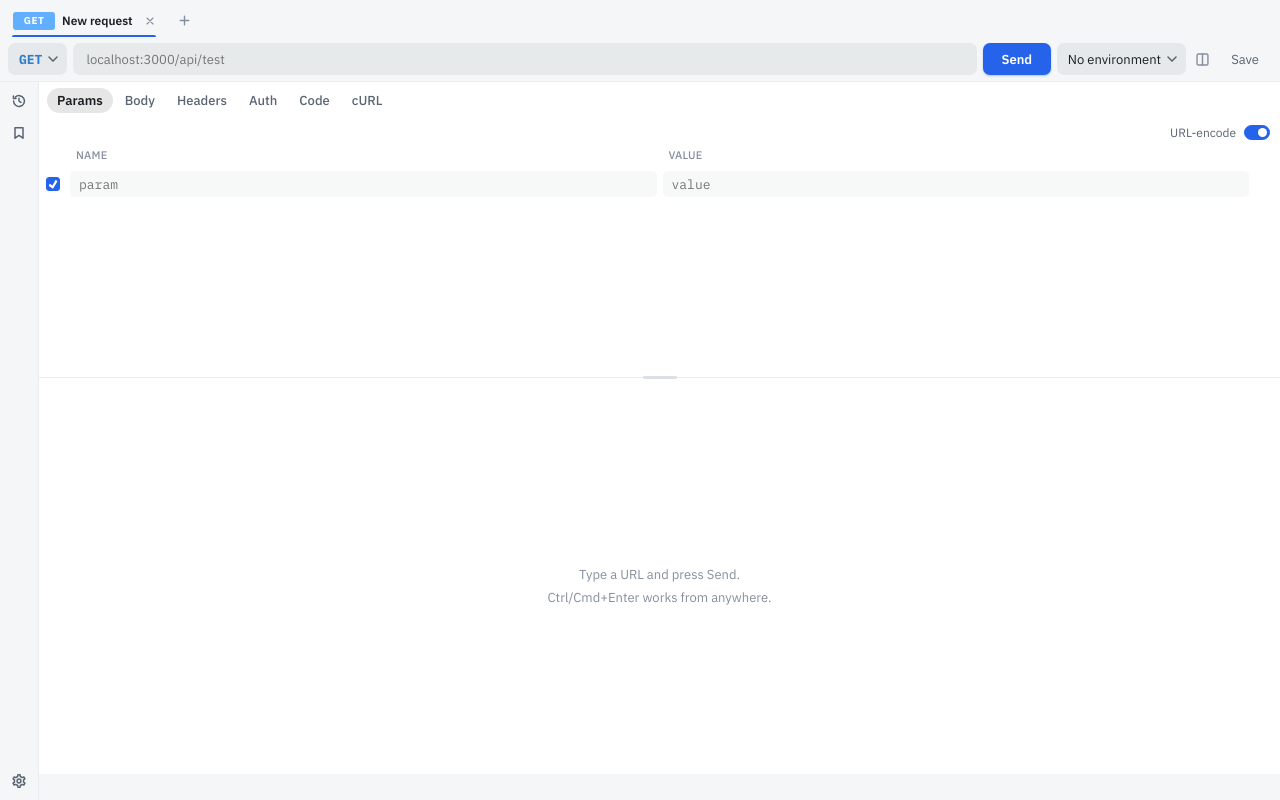
Test: sending › pretty-prints a JSON response
Type "localhost:3000" into the field named "URL" at (525, 59), box x1=73 y1=43 x2=977 y2=75
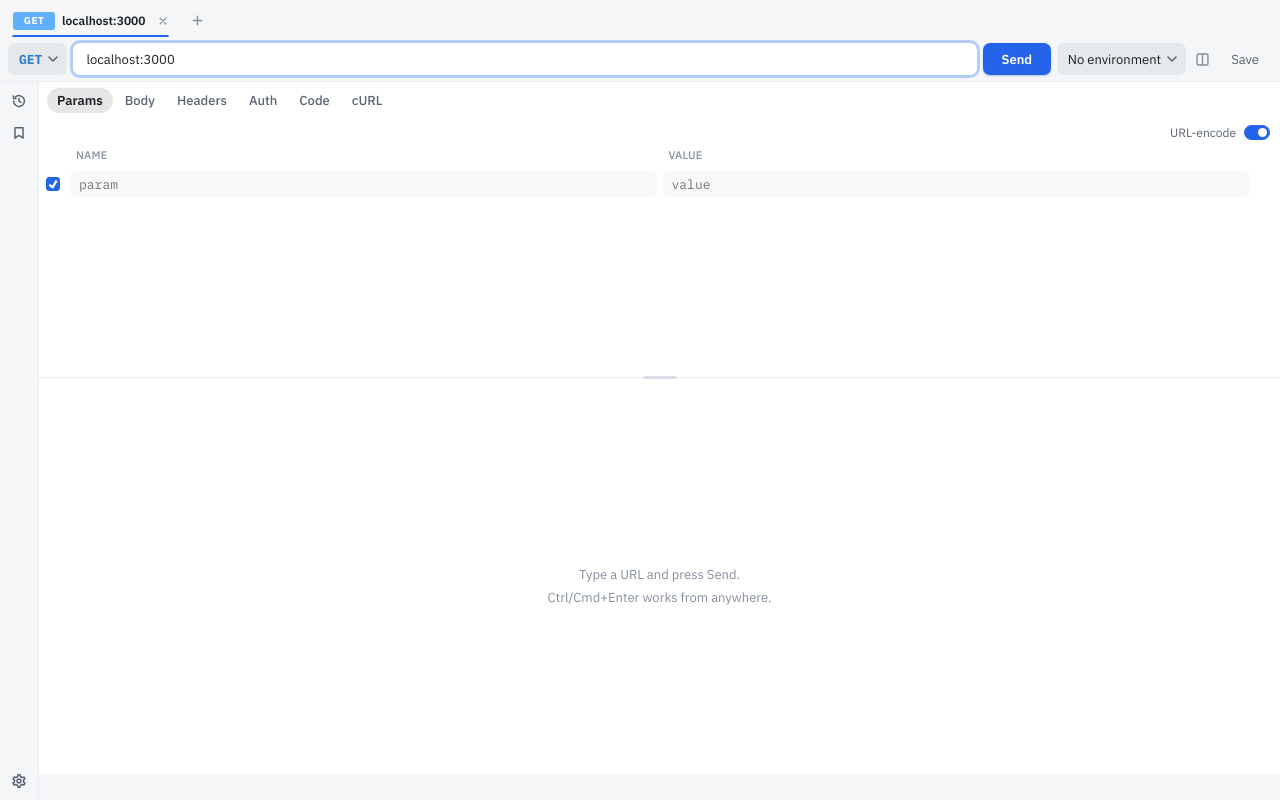
Click the button "Send" at (1017, 59), box x1=983 y1=43 x2=1051 y2=75
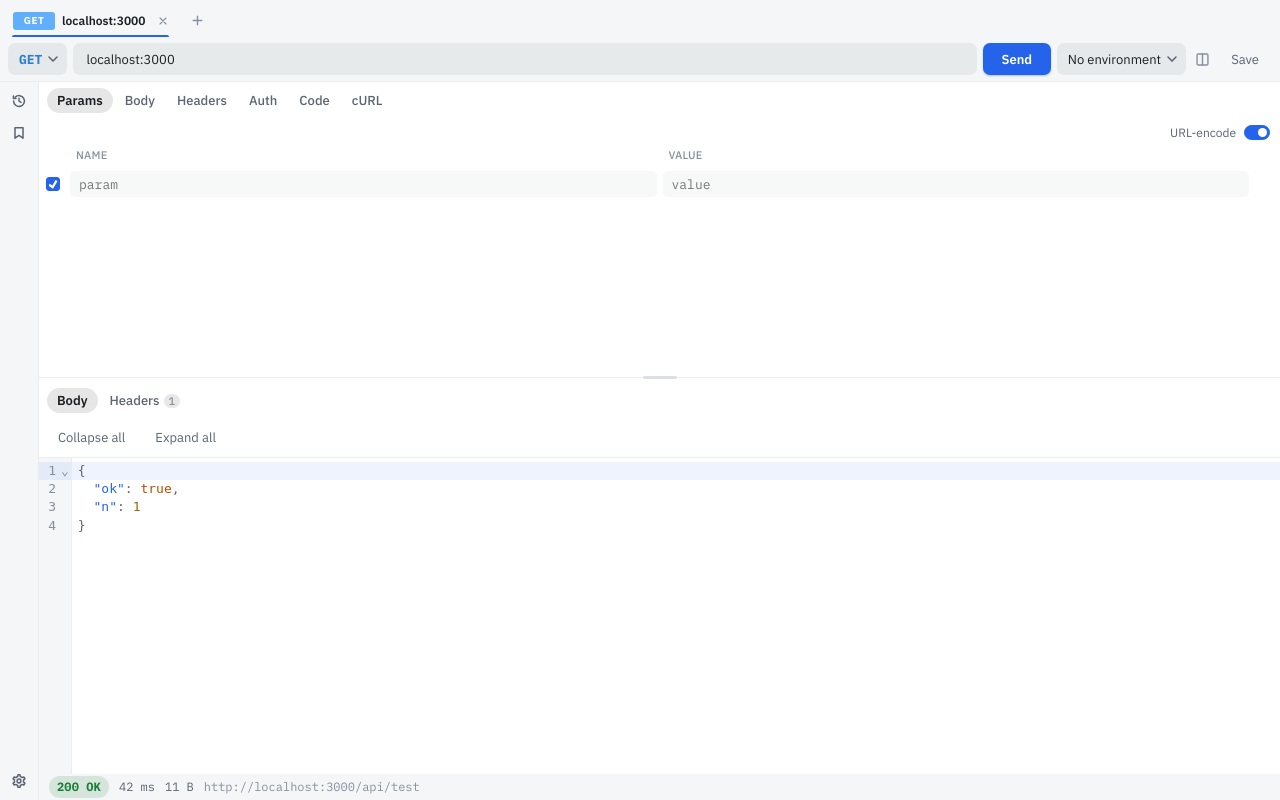
Now the text "200 OK" is shown, box x1=49 y1=776 x2=109 y2=798
Now the field named "Response body" shows "\"ok\": true", box x1=72 y1=462 x2=1279 y2=532
